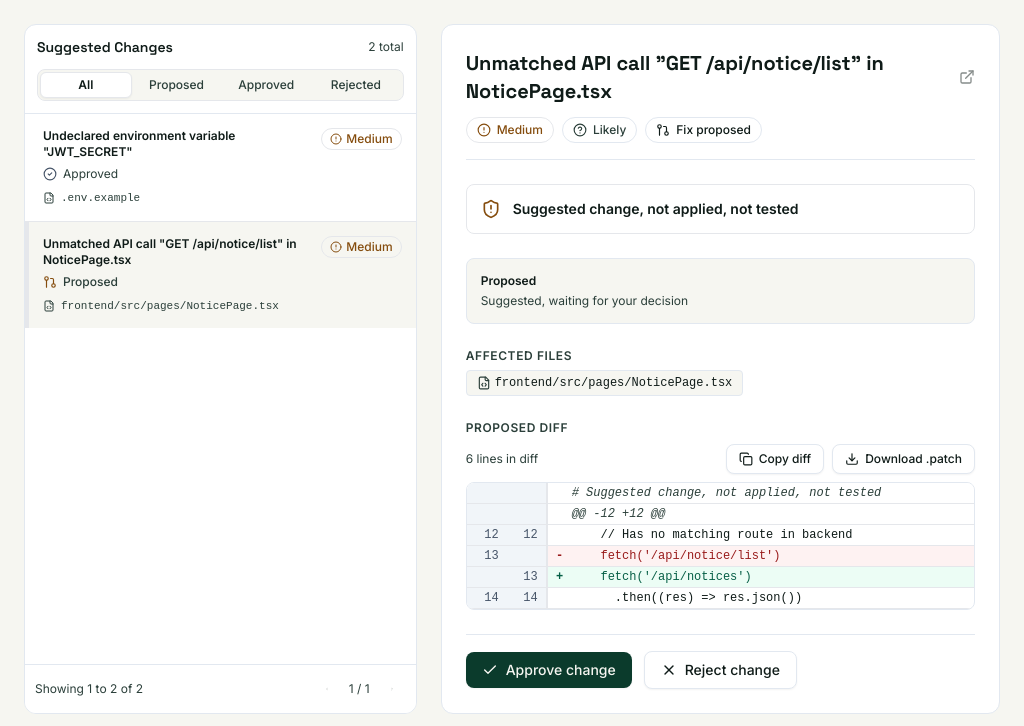
Test case: Fixes Screen (Step 12b Part 2) › Reject flow: 409 conflict displays friendly error message
The image size is (1024, 726).
Click the button "Reject change": (720, 670) [644,651,797,689]
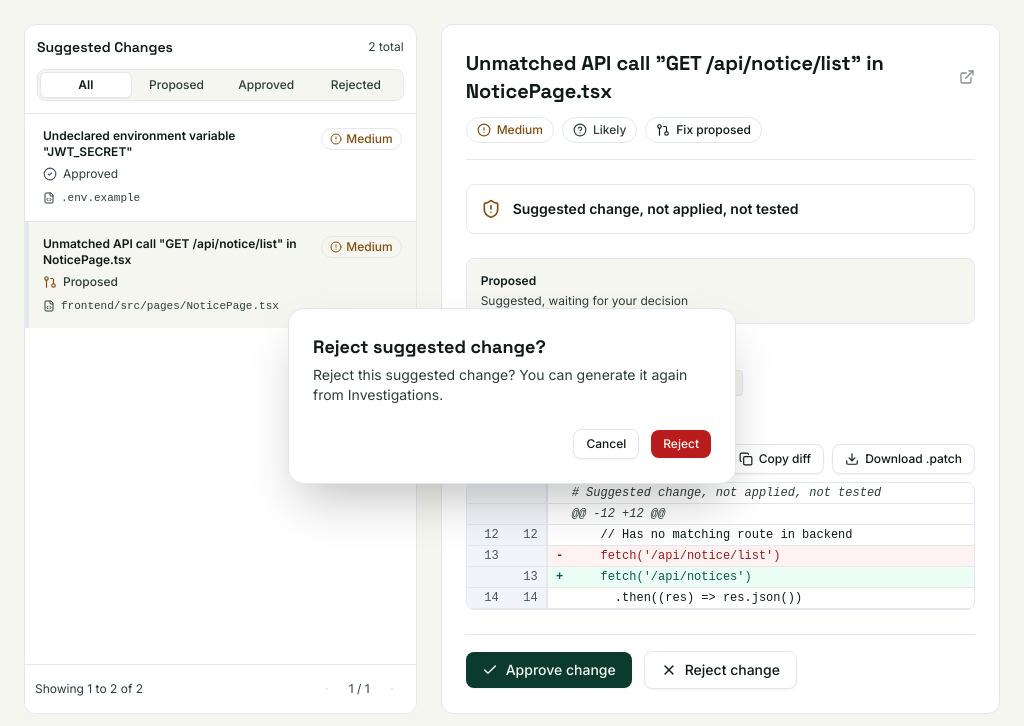
Click the button with test id "reject-confirm-dialog-confirm": (681, 444) [651,430,711,458]
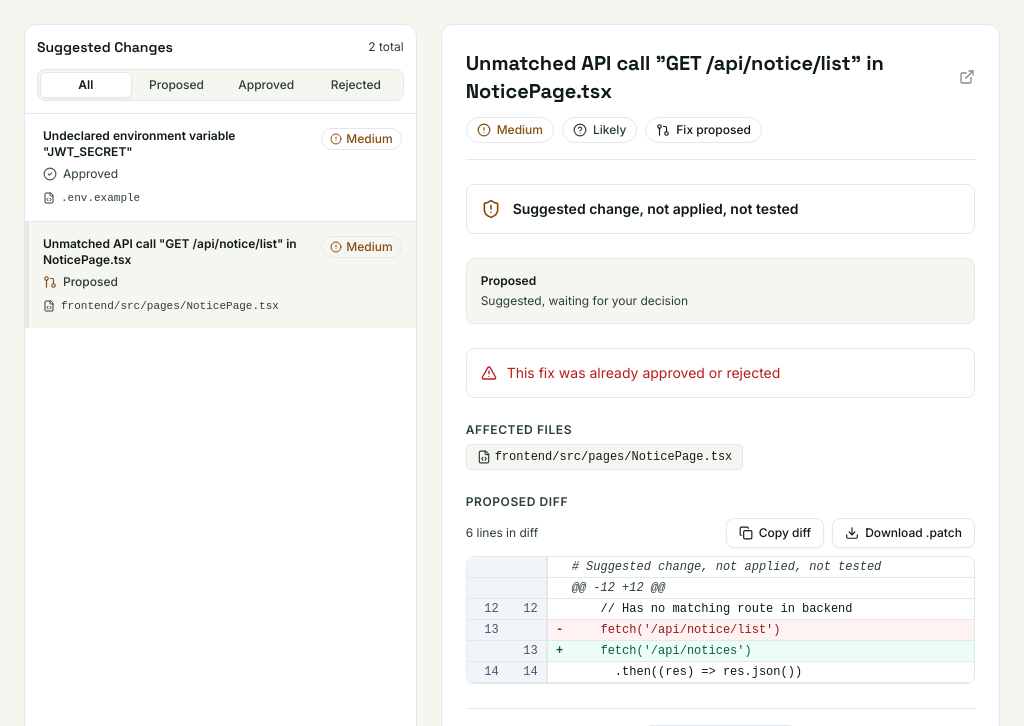
expect the text "This fix was already approved or rejected" is shown: met, box [507,363,780,383]
